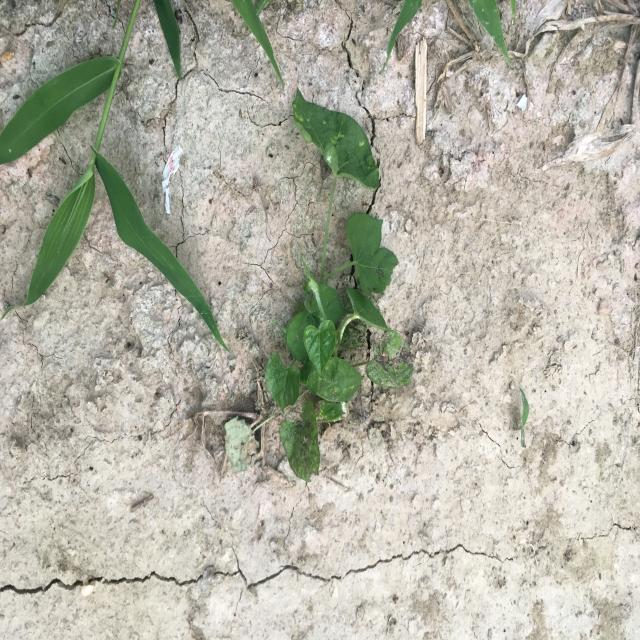MorningGlory: (222, 85, 416, 485)
